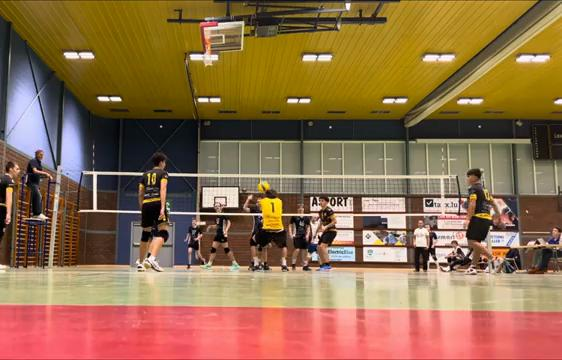Player: (465, 169, 500, 274), (137, 153, 168, 271), (202, 204, 238, 270), (0, 161, 19, 242), (243, 194, 262, 270), (317, 196, 336, 270), (289, 204, 309, 269), (136, 225, 157, 271), (185, 219, 204, 268), (303, 217, 320, 270)
Receive: (246, 177, 297, 275)
ball: (256, 179, 271, 195)
